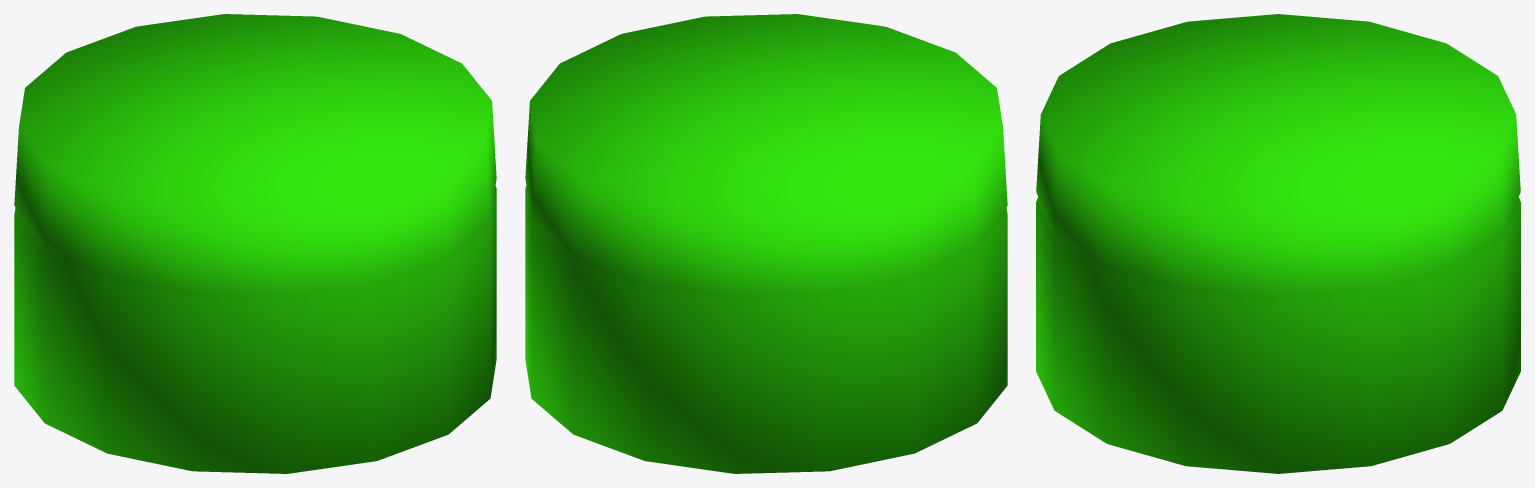
File: Cream_01_Lod0.fbx
3 renders of one model, left to right at view 1: azimuth 30°, elevation 25°; view 2: azimuth 150°, elevation 25°; view 3: azimuth 270°, elevation 25°, orthographic.
Visible parts, largest first — view 1: Cream_01_Lod0; view 2: Cream_01_Lod0; view 3: Cream_01_Lod0.
Boxes of the visible parts, x1,y1,x2,y2 form: Cream_01_Lod0: (14,14,496,473); Cream_01_Lod0: (525,14,1007,473); Cream_01_Lod0: (1036,14,1520,473).
Bounding box in the file's own units: 10.28 × 6.16 × 10.28.
